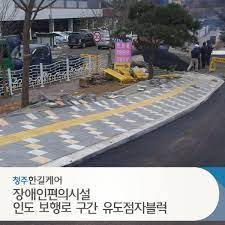guide_blocks: (1, 124, 56, 143), (60, 112, 101, 124), (103, 102, 139, 113), (144, 92, 171, 105)
